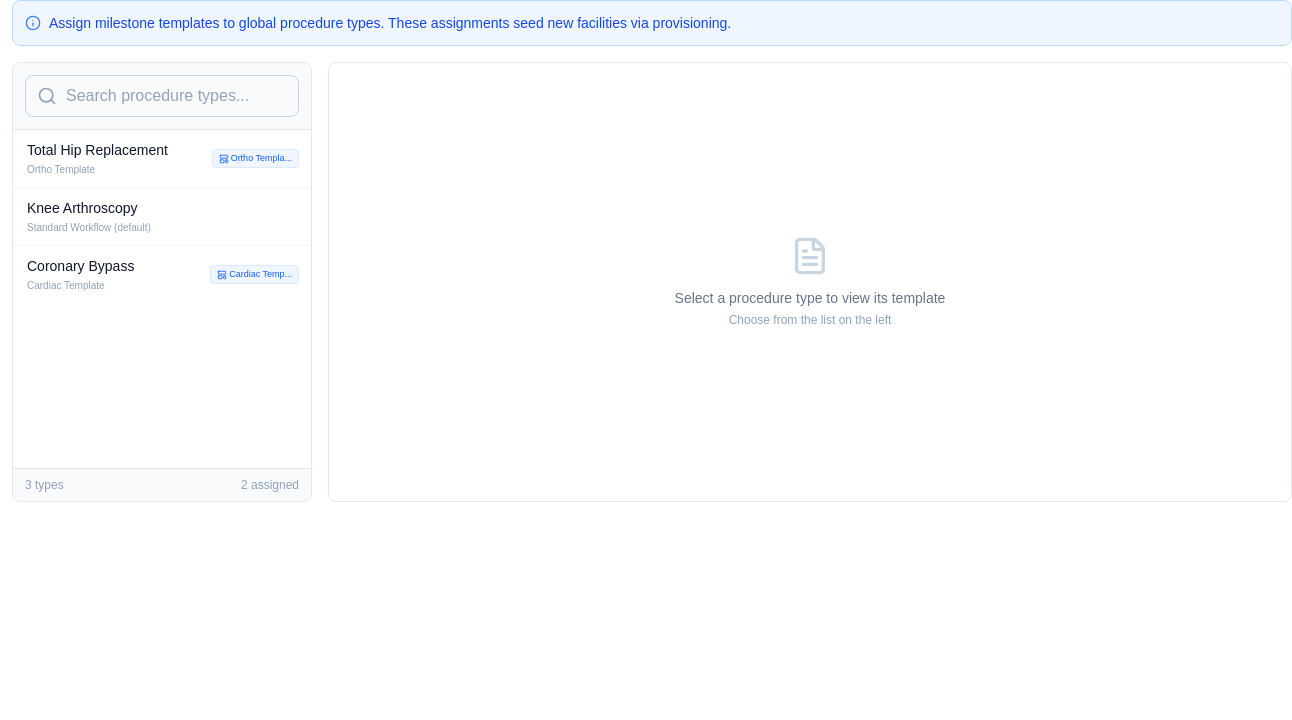
Scenario: AdminProcedureTypeAssignment › procedure selection › shows template detail when a procedure is selected
Click the text "Total Hip Replacement": (97, 150) [27,142,168,158]
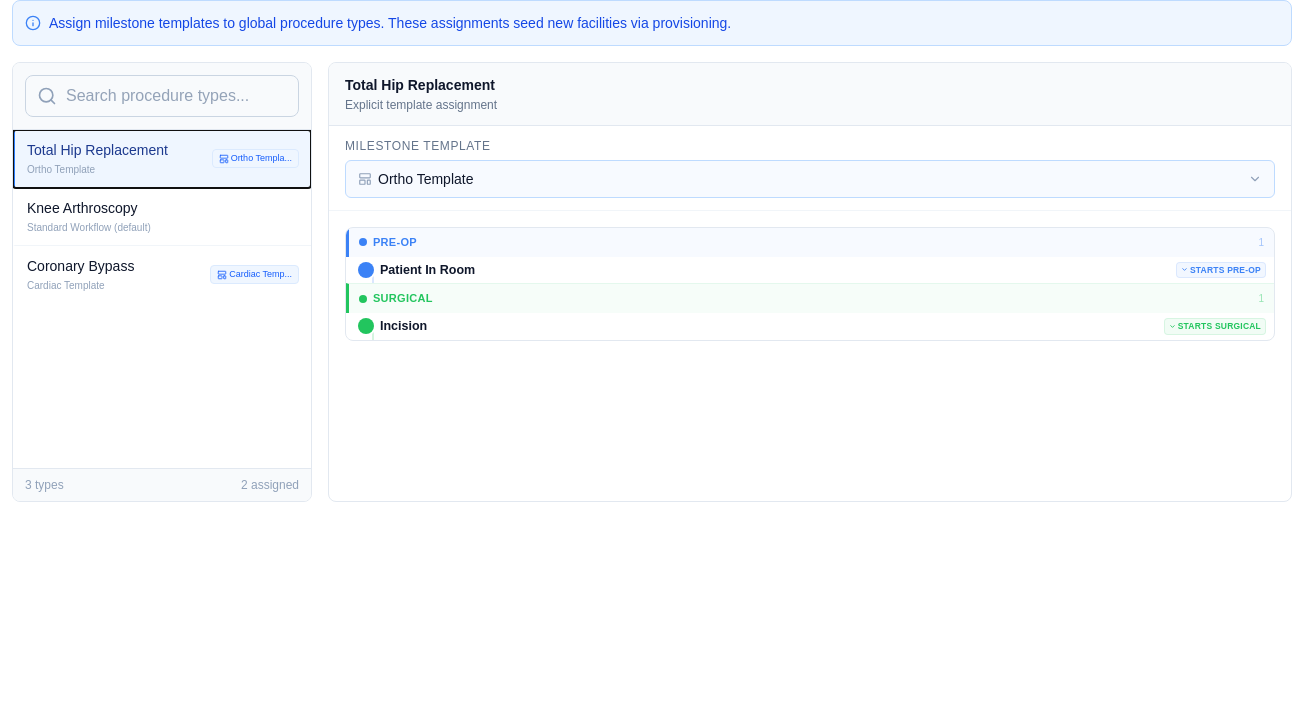
Expected: the text "Explicit template assignment" is shown, [345,98,497,112]
